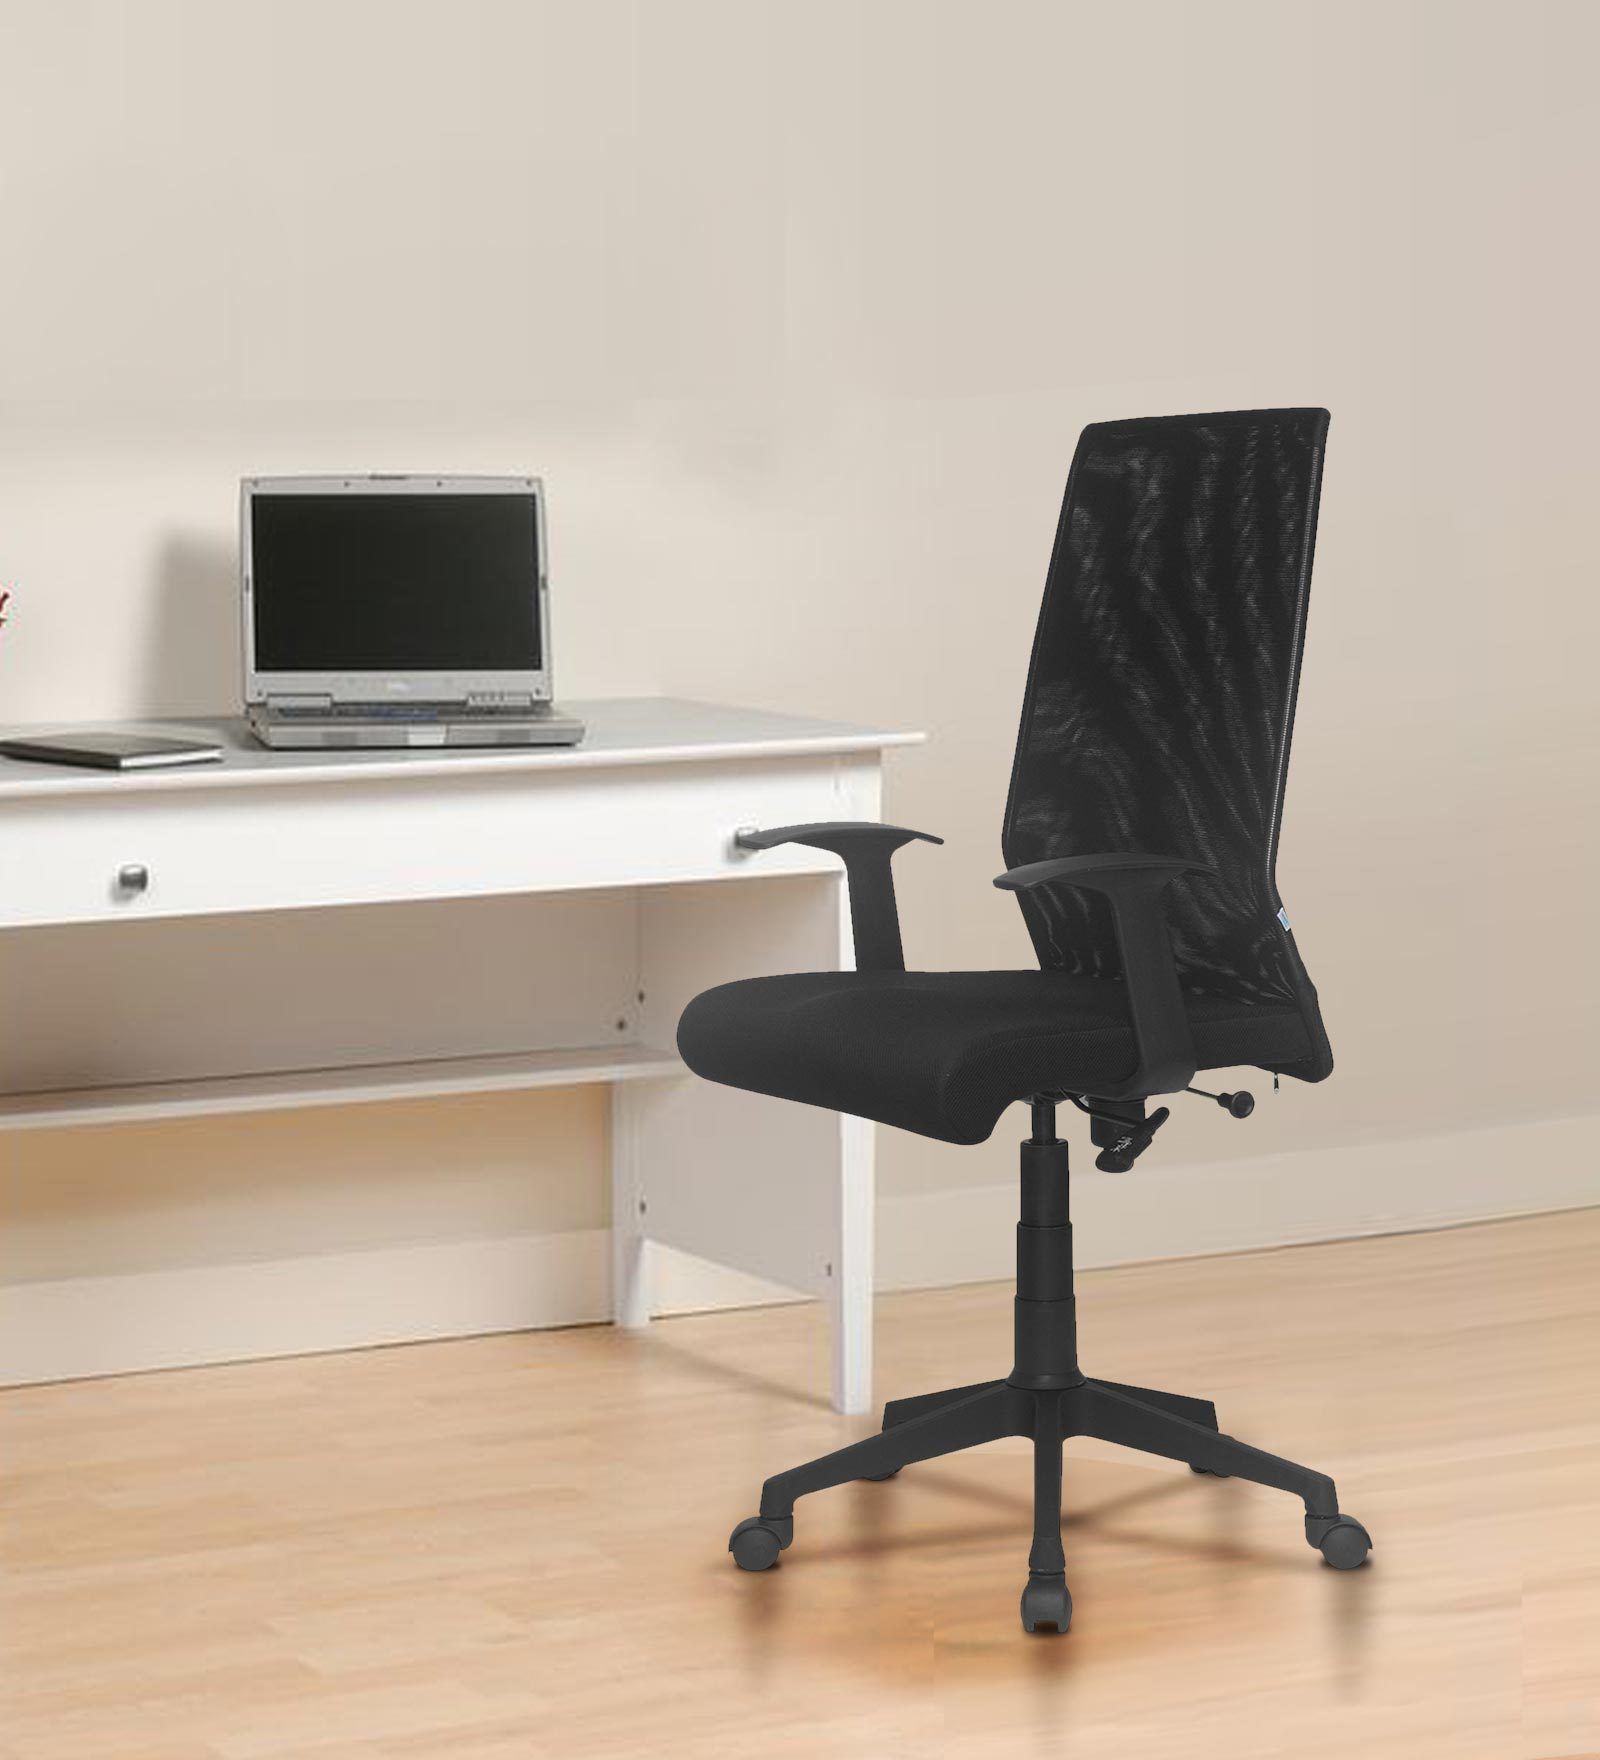Teak Wood Rocking Chair in Walnut Finish by Furniease: (743, 340, 1447, 1693)
